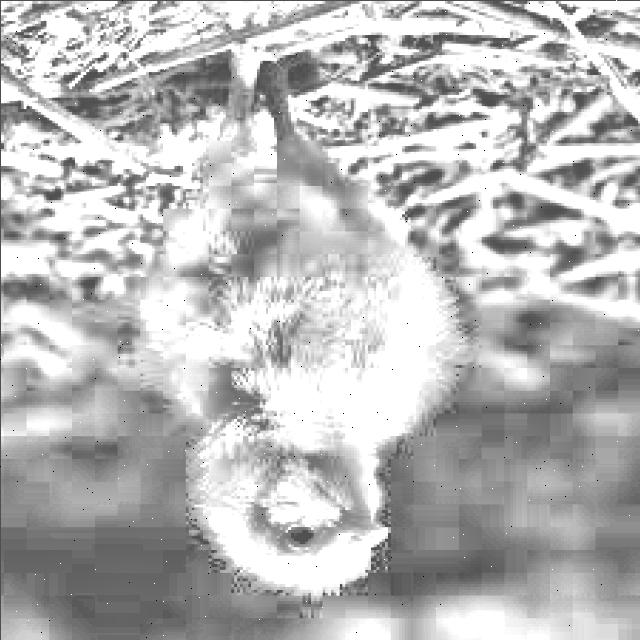Healthy: (123, 28, 450, 628)
